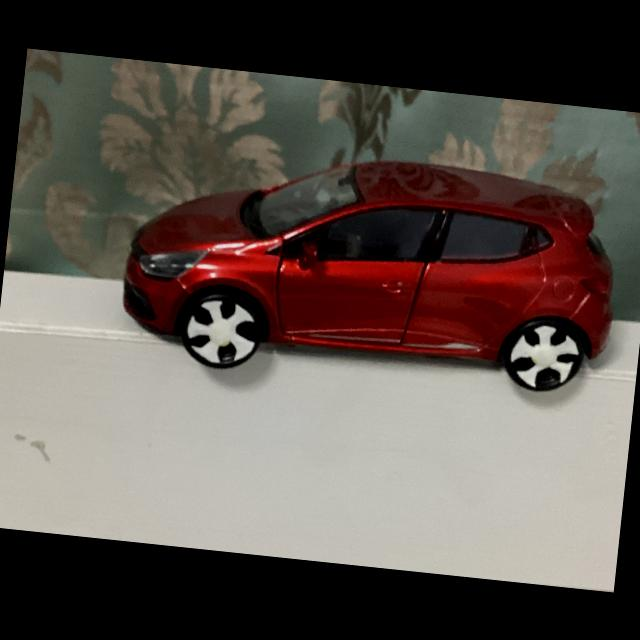Yanlis_Jant: (184, 296, 258, 367), (507, 322, 582, 390)
